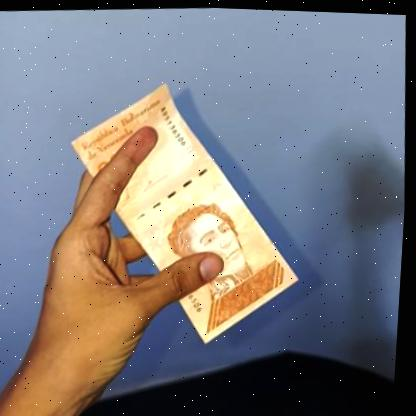twenty-front-vef: (59, 72, 313, 353)
